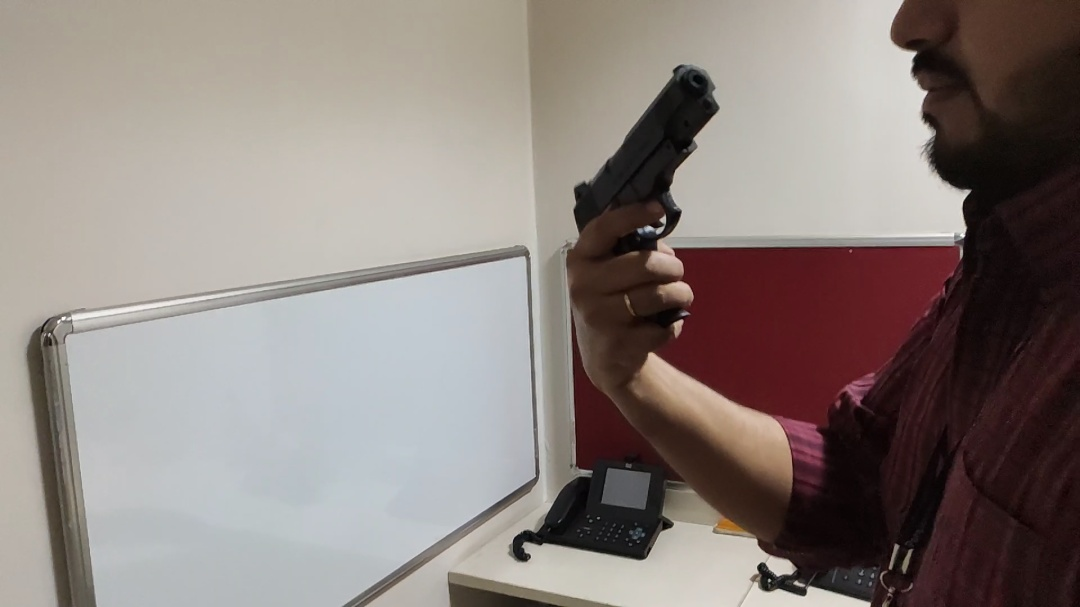gun: (538, 52, 723, 335)
